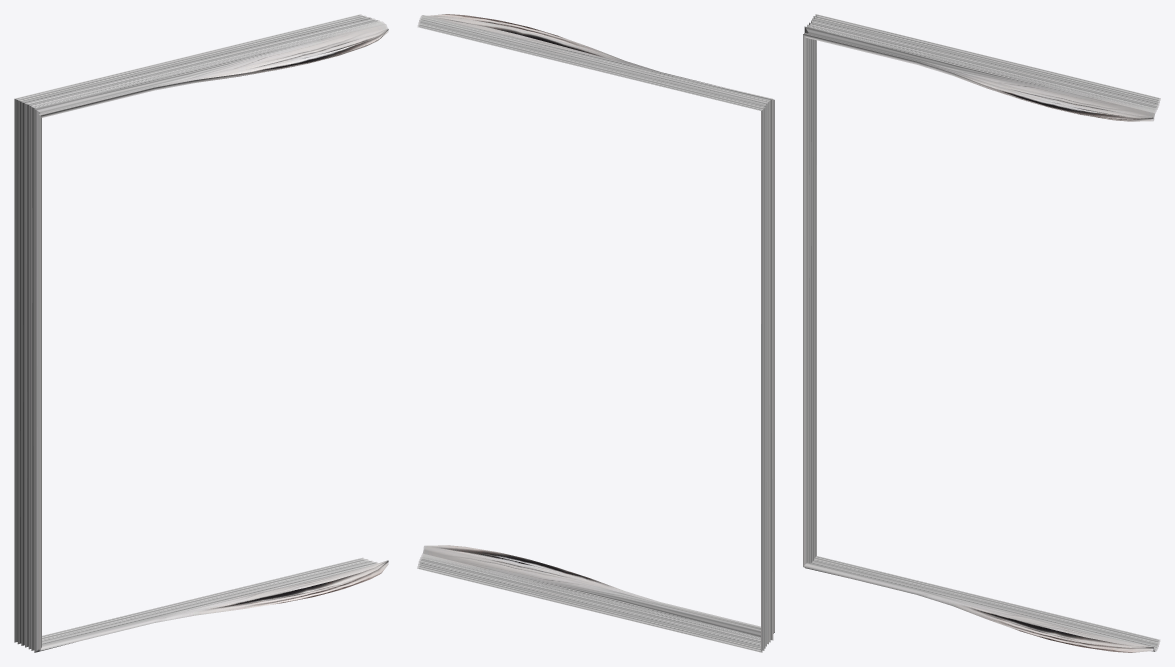
Rendered from MeshRobothorBook_6_0_GeomSubset_1.obj.
3 views of the same model, side by side, from view 1: azimuth 30°, elevation 25°; view 2: azimuth 150°, elevation 25°; view 3: azimuth 330°, elevation 25° (orthographic).
Visible parts, largest first — view 1: MeshRobothorBook_6_0_GeomSubset_1; view 2: MeshRobothorBook_6_0_GeomSubset_1; view 3: MeshRobothorBook_6_0_GeomSubset_1.
Part boxes in pixels (x1,y1,x2,y2): MeshRobothorBook_6_0_GeomSubset_1: (14,14,388,652); MeshRobothorBook_6_0_GeomSubset_1: (417,14,774,652); MeshRobothorBook_6_0_GeomSubset_1: (803,14,1160,652).
Bounding box in the file's own units: 0.1642 × 0.2392 × 0.0258.
